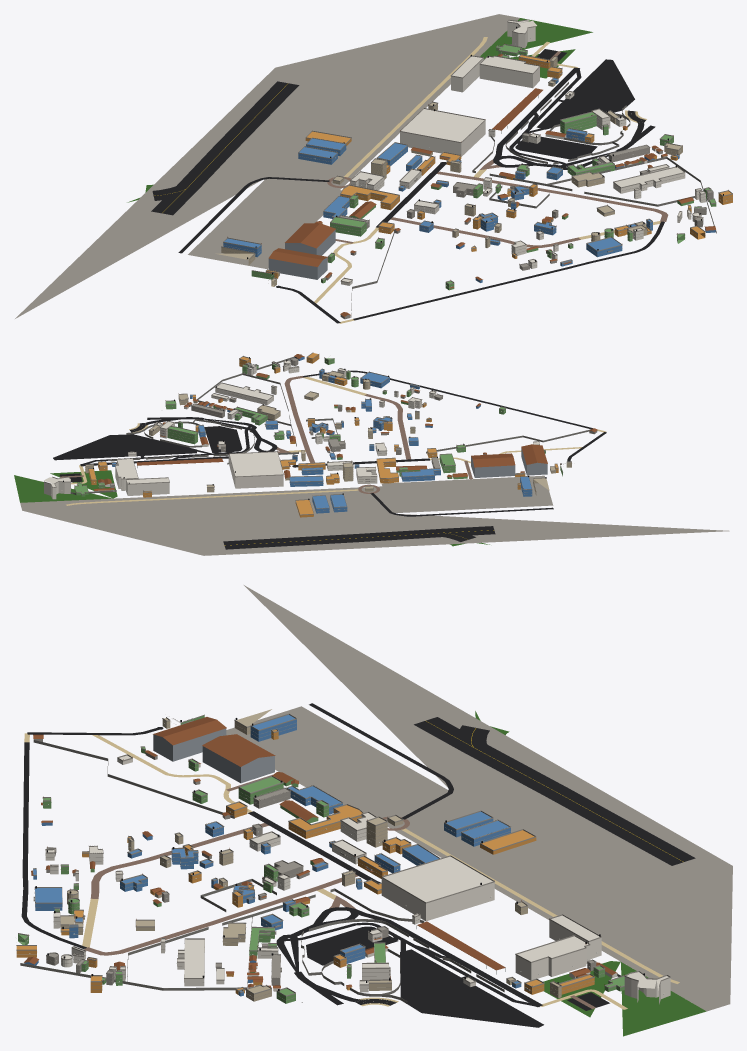
Rendered from zone_t0_0.glb.
3 views of the same model, one above another, from view 1: azimuth 30°, elevation 25°; view 2: azimuth 150°, elevation 25°; view 3: azimuth 270°, elevation 25° (orthographic). The views are drawn at different scales.
Visible parts, largest first — view 1: aeroport_tarmac_t0_0, parapet_t0_0, bld_terminal_t0_0-col, bld_peinture_bleu_t0_0-col, bld_peinture_blanc_t0_0-col, aeroport_taxiway_t0_0, route_service_bitume_t0_0, zone_parking_t0_0, bld_peinture_vert_t0_0-col, bld_peinture_ocre_t0_0-col, toit_tole_t0_0, bld_peinture_ecaillee_t0_0-col (+8 smaller); view 2: aeroport_tarmac_t0_0, parapet_t0_0, bld_terminal_t0_0-col, bld_peinture_bleu_t0_0-col, route_service_bitume_t0_0, aeroport_taxiway_t0_0, bld_peinture_blanc_t0_0-col, zone_parking_t0_0, bld_peinture_ocre_t0_0-col, bld_peinture_vert_t0_0-col, toit_tole_t0_0, mur_wall_t0_0-col (+9 smaller); view 3: aeroport_tarmac_t0_0, parapet_t0_0, bld_terminal_t0_0-col, bld_peinture_bleu_t0_0-col, aeroport_taxiway_t0_0, route_service_bitume_t0_0, zone_parking_t0_0, bld_peinture_blanc_t0_0-col, bld_peinture_ocre_t0_0-col, toit_tole_t0_0, bld_peinture_vert_t0_0-col, mur_wall_t0_0-col (+9 smaller).
Part boxes in pixels (bbox=[...]): aeroport_tarmac_t0_0: bbox=[15, 14, 519, 318]; parapet_t0_0: bbox=[221, 19, 732, 284]; bld_terminal_t0_0-col: bbox=[400, 19, 539, 156]; bld_peinture_bleu_t0_0-col: bbox=[223, 78, 715, 282]; bld_peinture_blanc_t0_0-col: bbox=[327, 92, 705, 285]; aeroport_taxiway_t0_0: bbox=[151, 81, 299, 215]; route_service_bitume_t0_0: bbox=[178, 68, 664, 323]; zone_parking_t0_0: bbox=[515, 49, 634, 159]; bld_peinture_vert_t0_0-col: bbox=[251, 45, 716, 290]; bld_peinture_ocre_t0_0-col: bbox=[266, 55, 732, 278]; toit_tole_t0_0: bbox=[269, 54, 715, 316]; bld_peinture_ecaillee_t0_0-col: bbox=[215, 57, 682, 286]; aeroport_tarmac_t0_0: bbox=[20, 475, 729, 555]; parapet_t0_0: bbox=[44, 352, 571, 515]; bld_terminal_t0_0-col: bbox=[41, 452, 283, 499]; bld_peinture_bleu_t0_0-col: bbox=[112, 356, 532, 513]; route_service_bitume_t0_0: bbox=[75, 370, 606, 516]; aeroport_taxiway_t0_0: bbox=[223, 526, 495, 549]; bld_peinture_blanc_t0_0-col: bbox=[94, 361, 539, 491]; zone_parking_t0_0: bbox=[53, 426, 242, 482]; bld_peinture_ocre_t0_0-col: bbox=[88, 353, 558, 517]; bld_peinture_vert_t0_0-col: bbox=[74, 358, 562, 496]; toit_tole_t0_0: bbox=[94, 354, 597, 490]; mur_wall_t0_0-col: bbox=[70, 354, 590, 494]; aeroport_tarmac_t0_0: bbox=[226, 585, 732, 1011]; parapet_t0_0: bbox=[16, 713, 670, 996]; bld_terminal_t0_0-col: bbox=[381, 856, 670, 1004]; bld_peinture_bleu_t0_0-col: bbox=[24, 715, 521, 996]; aeroport_taxiway_t0_0: bbox=[414, 717, 695, 865]; route_service_bitume_t0_0: bbox=[21, 703, 540, 1019]; zone_parking_t0_0: bbox=[306, 926, 609, 1027]; bld_peinture_blanc_t0_0-col: bbox=[45, 755, 617, 992]; bld_peinture_ocre_t0_0-col: bbox=[16, 730, 594, 994]; toit_tole_t0_0: bbox=[24, 717, 617, 988]; bld_peinture_vert_t0_0-col: bbox=[18, 715, 624, 1003]; mur_wall_t0_0-col: bbox=[20, 740, 621, 1003].
Bounding box in the file's own units: 813 × 19.9 × 547.
